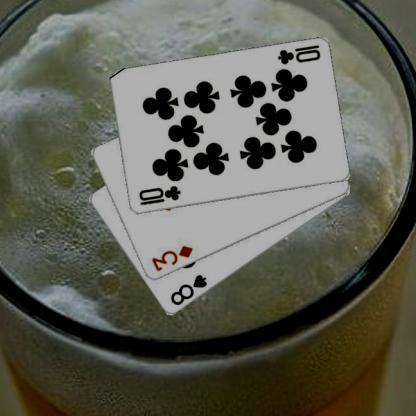10C: (274, 43, 322, 66), (136, 184, 181, 206)
3D: (148, 242, 194, 274)
8S: (168, 271, 209, 307)
